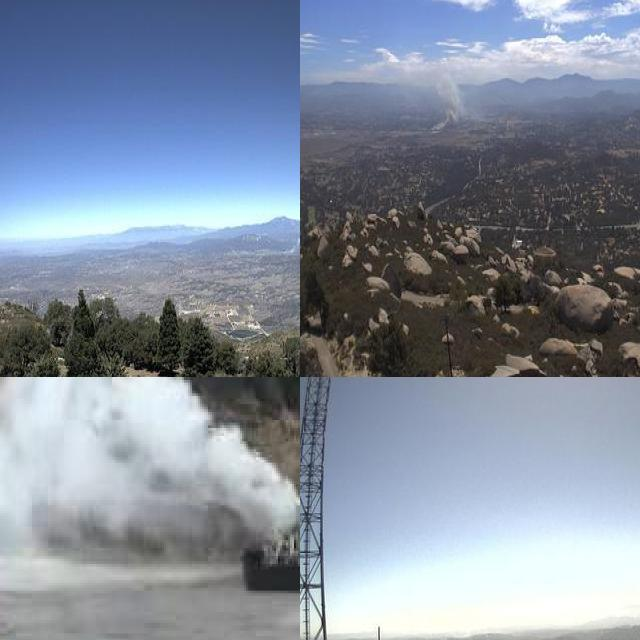smoke: (0, 377, 300, 550), (423, 59, 474, 141), (274, 213, 300, 255), (417, 625, 479, 640)
